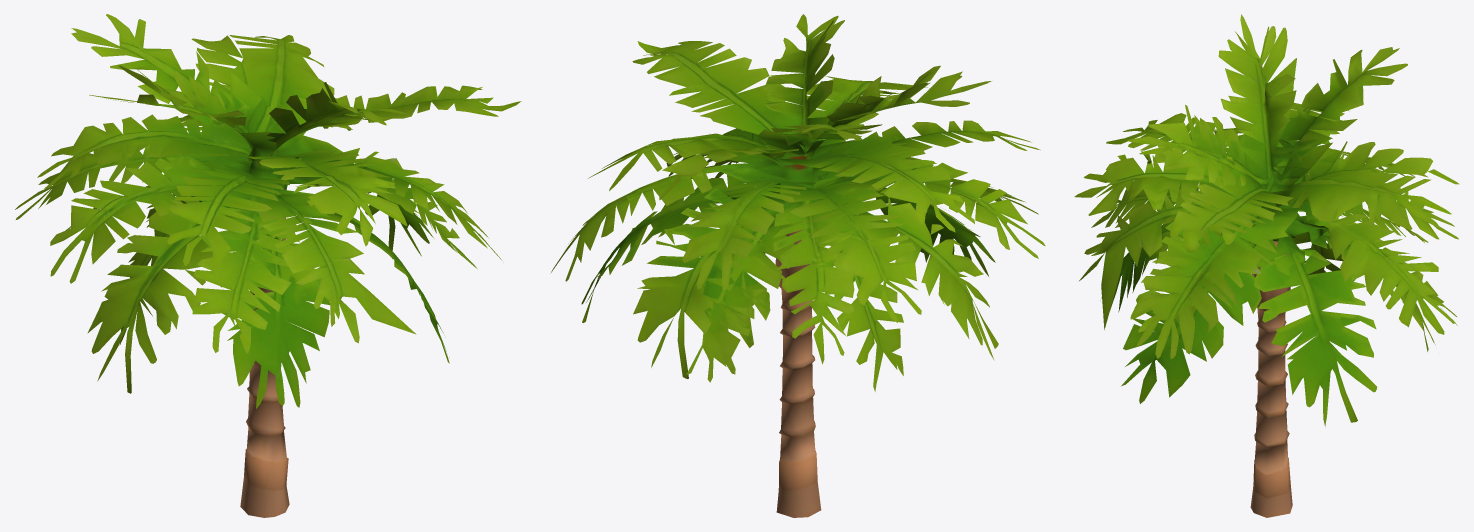
File: q3d-33-palm.glb
3 views of the same model, side by side, from view 1: azimuth 30°, elevation 25°; view 2: azimuth 150°, elevation 25°; view 3: azimuth 270°, elevation 25° (orthographic). The views are drawn at different scales.
Bounding box in the file's own units: 0.9683 × 0.9995 × 0.8237.
Materials: 1 (1 with a texture image).
